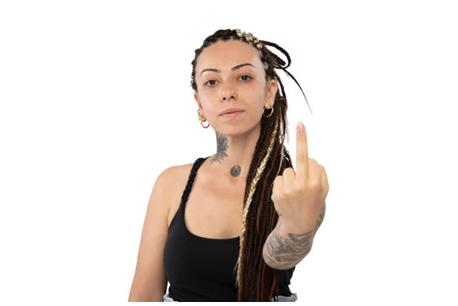insulting_gesture: (272, 117, 330, 238)
